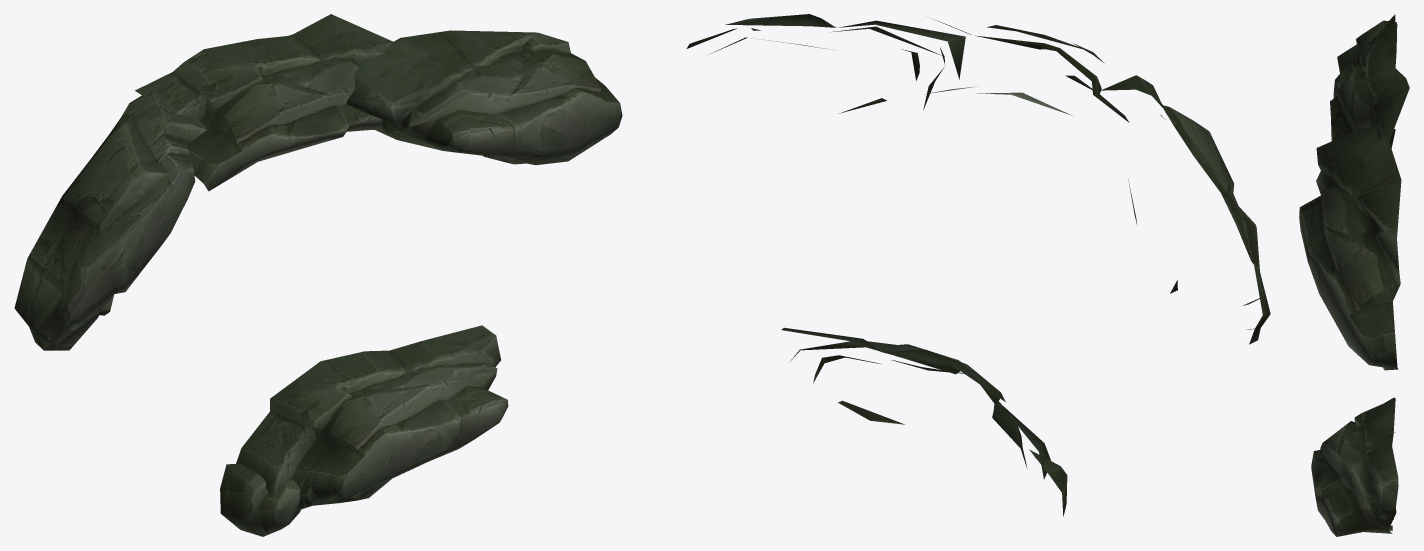
3 views of the same model, side by side, from view 1: azimuth 30°, elevation 25°; view 2: azimuth 150°, elevation 25°; view 3: azimuth 270°, elevation 25° (orthographic). The views are drawn at different scales.
Visible parts, largest first — view 1: model_Object65; view 2: model_Object65; view 3: model_Object65.
Part boxes in pixels (x1,y1,x2,y2): model_Object65: (14, 14, 622, 536); model_Object65: (686, 14, 1270, 516); model_Object65: (1299, 14, 1409, 536).
Bounding box in the file's own units: 4.36 × 3.44 × 0.7477.
1 material, 1 textured.
